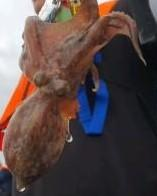Cephalopod: (3, 0, 146, 192)
